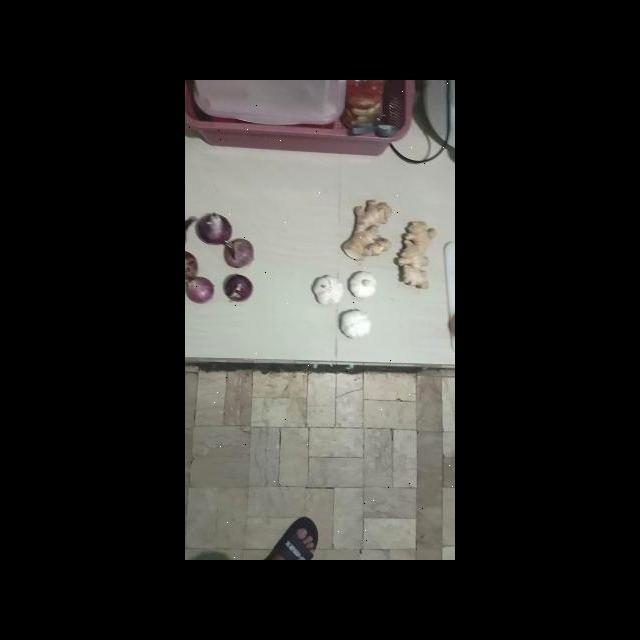garlic: (309, 273, 346, 307), (336, 308, 374, 341), (345, 267, 380, 301)
ginger: (342, 200, 395, 261), (395, 218, 437, 290)
onion: (195, 211, 231, 248), (222, 236, 254, 268), (222, 272, 255, 303), (186, 277, 215, 306)
